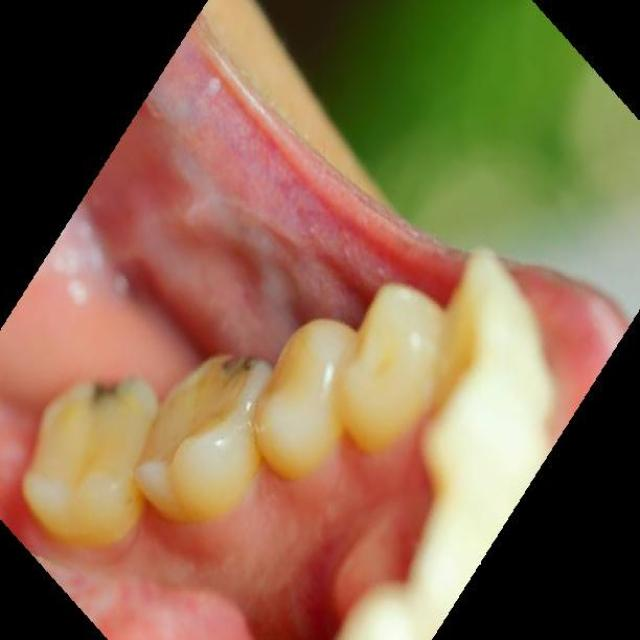caries: (211, 341, 269, 386), (84, 363, 138, 407)
